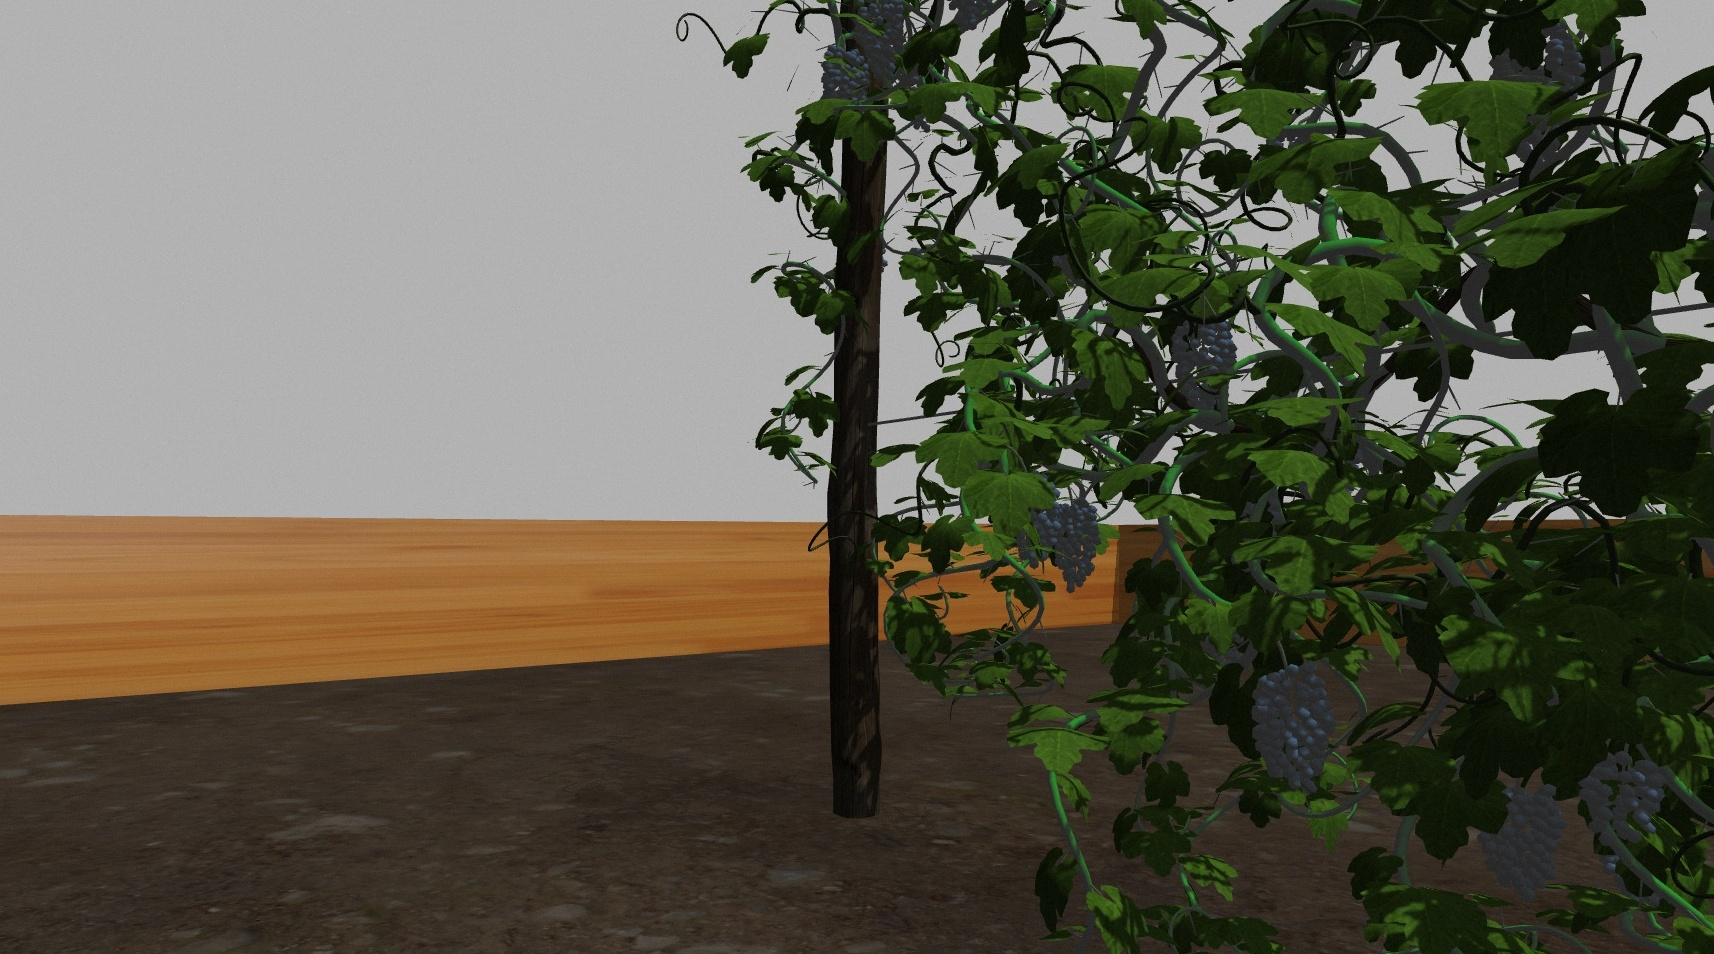grape: (1250, 663, 1335, 793), (1476, 786, 1566, 900), (1578, 753, 1667, 847), (1171, 324, 1241, 411), (1048, 500, 1100, 592), (856, 2, 912, 86), (820, 49, 867, 102)
